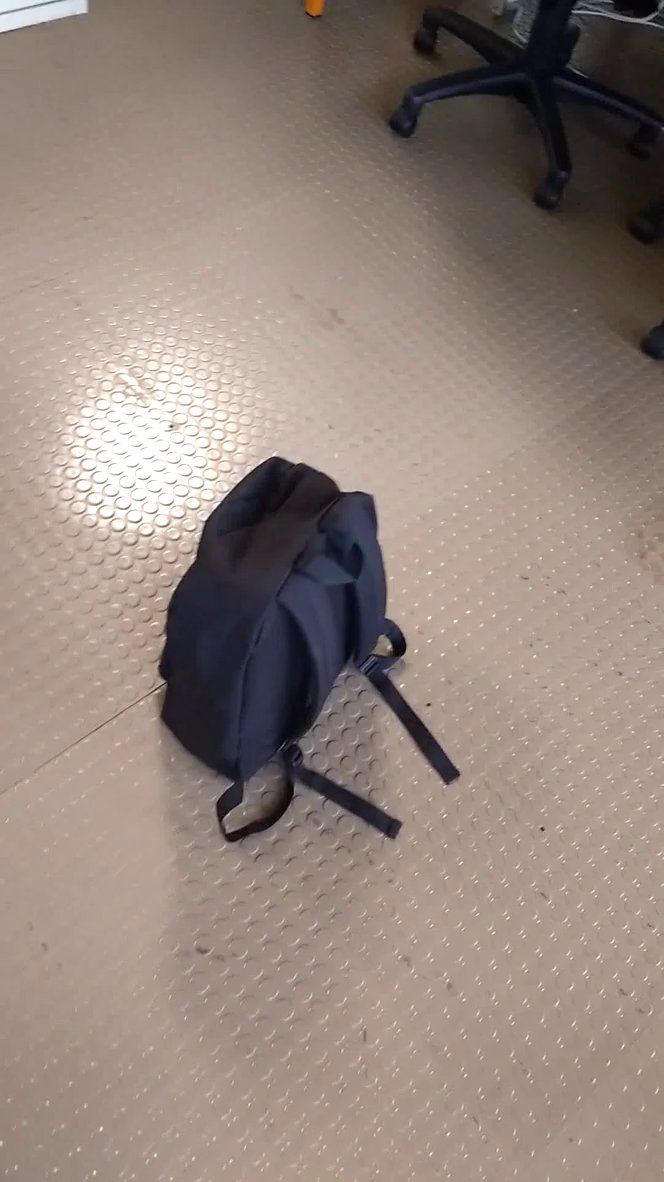bag: (141, 441, 470, 851)
